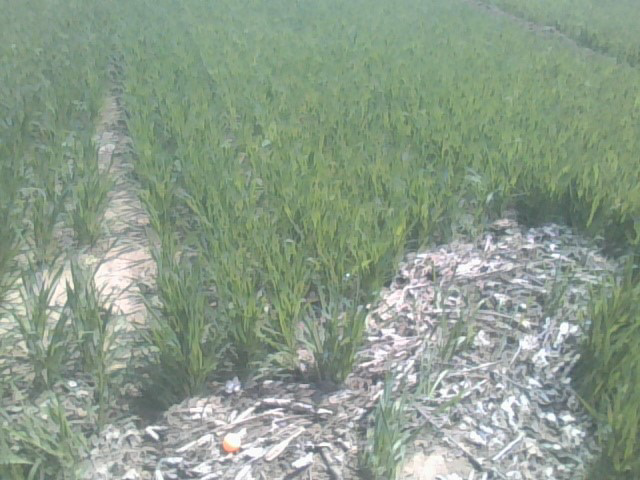ball: (222, 432, 239, 453)
